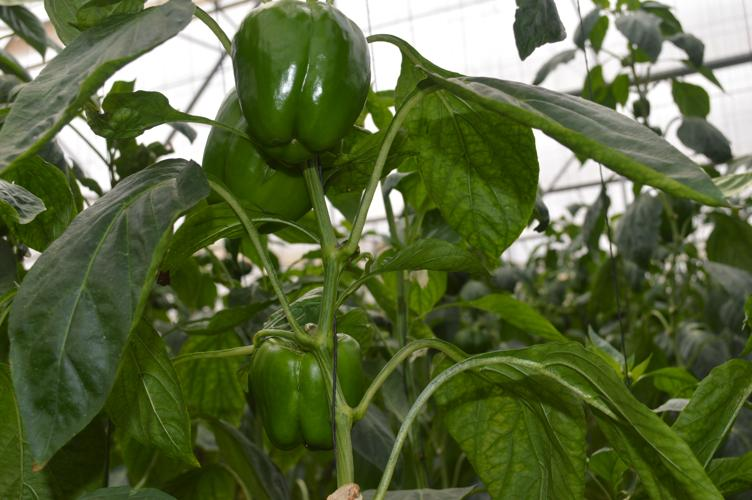BellPepper: (224, 4, 366, 169), (201, 95, 332, 226), (245, 331, 366, 450)
